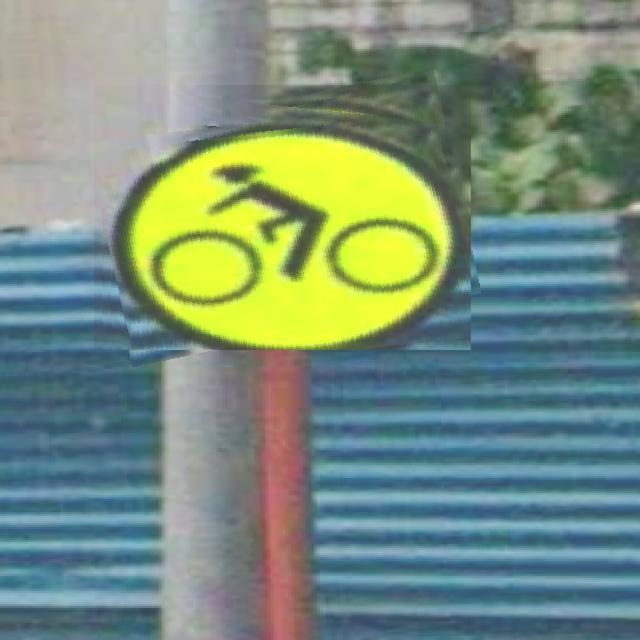bike lane: (94, 85, 471, 350)
